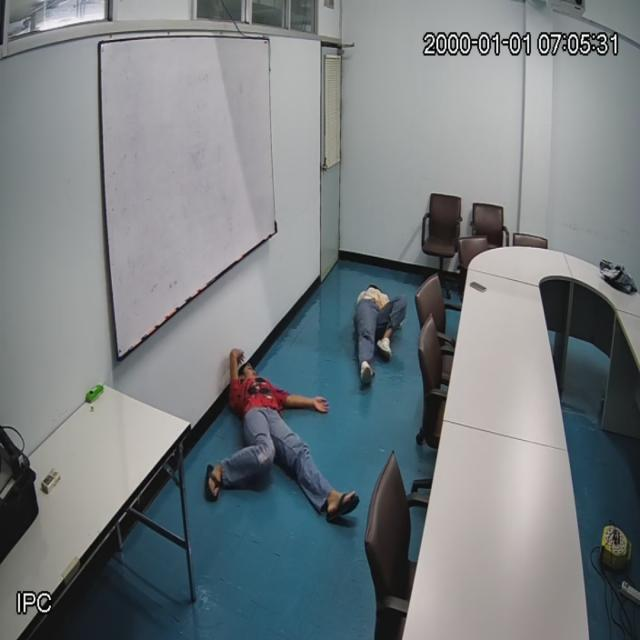fall: (202, 346, 362, 532), (354, 272, 406, 391)
